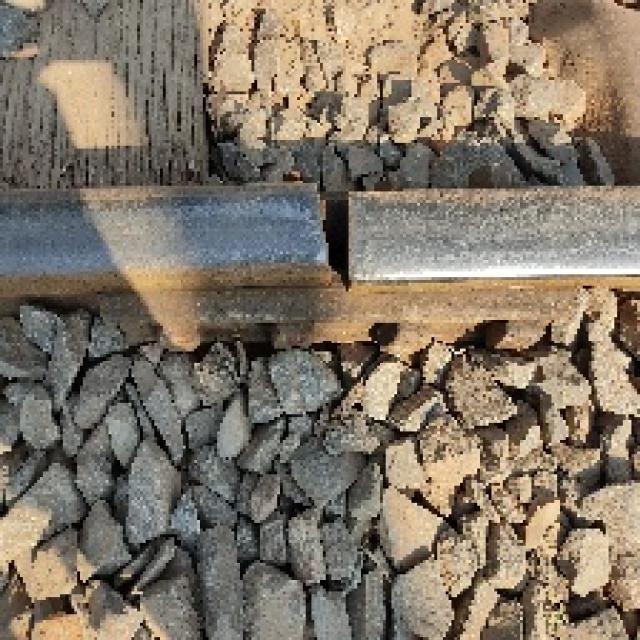Good Joint: (57, 286, 614, 354)
